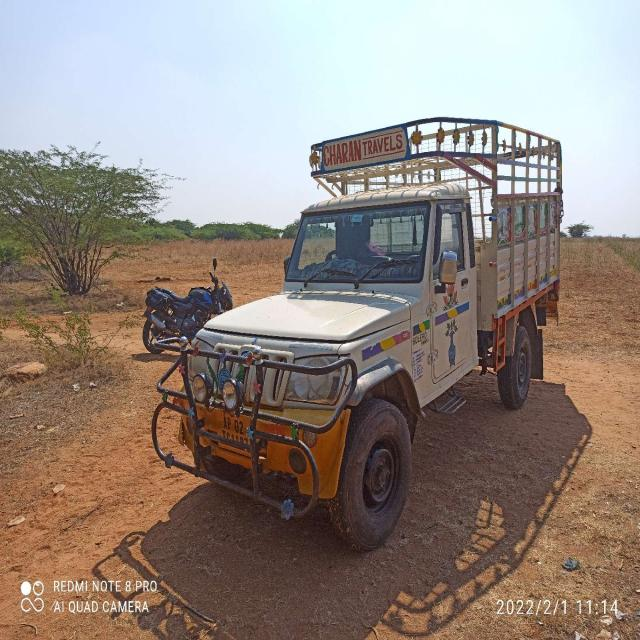light_vehicle: (180, 180, 482, 527)
